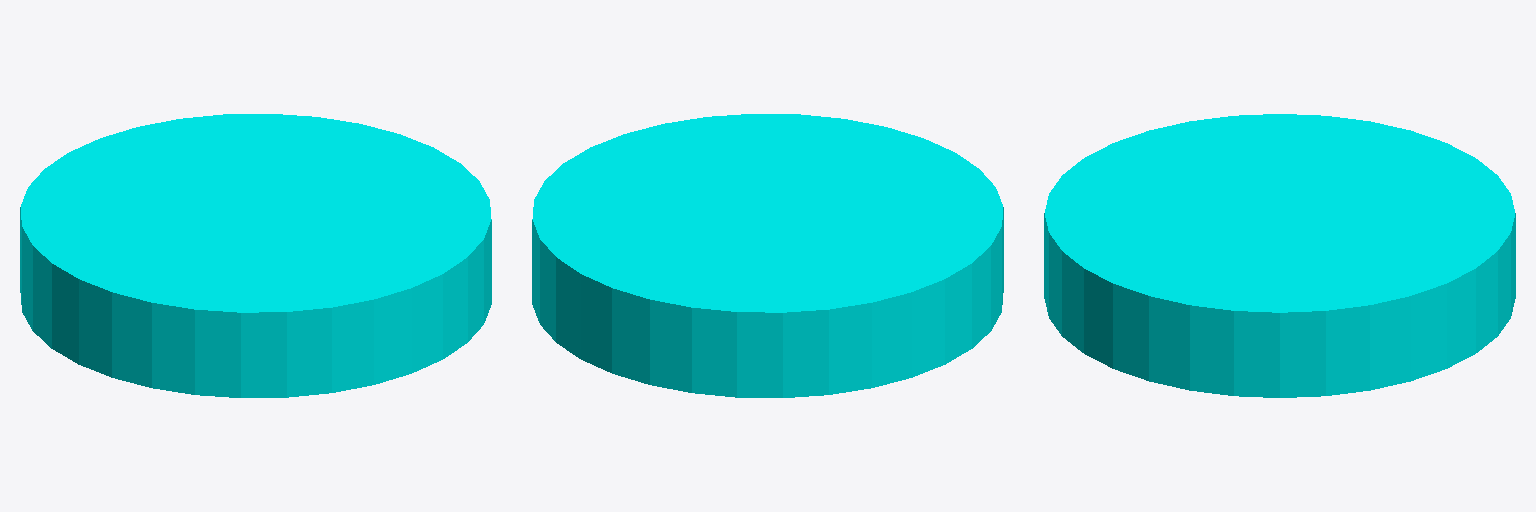
robot.urdf — obstacle.urdf:
<?xml version="1.0" ?>
<robot name="obstacle.urdf">
  <link name="baseLink">
    <contact>
      <lateral_friction value="0.0"/>
      <inertia_scaling value="0.0"/>
    </contact>
    <inertial>
      <origin rpy="0 0 0" xyz="-0.01 0 0.02"/>
       <mass value=".1"/>
       <inertia ixx="1" ixy="0" ixz="0" iyy="1" iyz="0" izz="1"/>
    </inertial>
    <visual>
      <origin rpy="0 0 0" xyz="0 0 0"/>
      <geometry>
				<cylinder radius="0.05" length="0.02"/>
      </geometry>
      <material name="purple">
        <color rgba="0 1.0 1.0 1"/>
      </material>
    </visual>
    <collision>
      <origin rpy="0 0 0" xyz="0 0 0"/>
      <geometry>
	 	    <cylinder radius="0.05" length="0.02"/>
      </geometry>
    </collision>
  </link>
</robot>

--- Facts derived from the render (not from the file) ---
The picture shows the robot from 3 angles, left to right: view 1: azimuth 30°, elevation 25°; view 2: azimuth 150°, elevation 25°; view 3: azimuth 270°, elevation 25°; orthographic projection.
Model obstacle.urdf with 1 links and 0 joints (none), rooted at baseLink, posed every joint at zero.
Visible links, largest first — view 1: baseLink; view 2: baseLink; view 3: baseLink.
Boxes of the visible links, x1,y1,x2,y2 form: baseLink: (20, 114, 491, 397); baseLink: (532, 114, 1003, 397); baseLink: (1044, 114, 1515, 397).
Size in the robot's own frame: 0.1 by 0.1 by 0.02 metres.
Geometry: primitives only (box / cylinder / sphere), no mesh files.